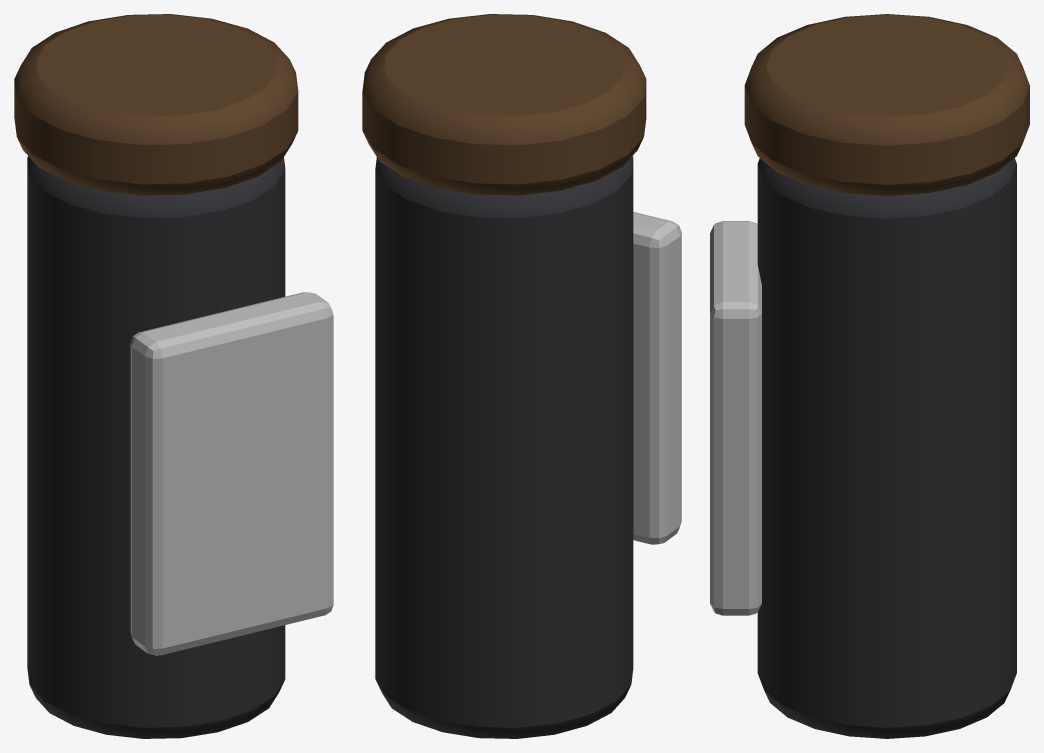
The model's file is ignition_coil.glb.
The picture shows the model from 3 angles, left to right: view 1: azimuth 30°, elevation 25°; view 2: azimuth 150°, elevation 25°; view 3: azimuth 270°, elevation 25°; orthographic projection.
Visible parts, largest first — view 1: ignition_coil; view 2: ignition_coil; view 3: ignition_coil.
Boxes of the visible parts, x1=… form: ignition_coil: x1=14, y1=14, x2=333, y2=738; ignition_coil: x1=362, y1=14, x2=681, y2=738; ignition_coil: x1=710, y1=14, x2=1029, y2=738.
Size of the model in its own units: 0.066 by 0.16 by 0.074.
